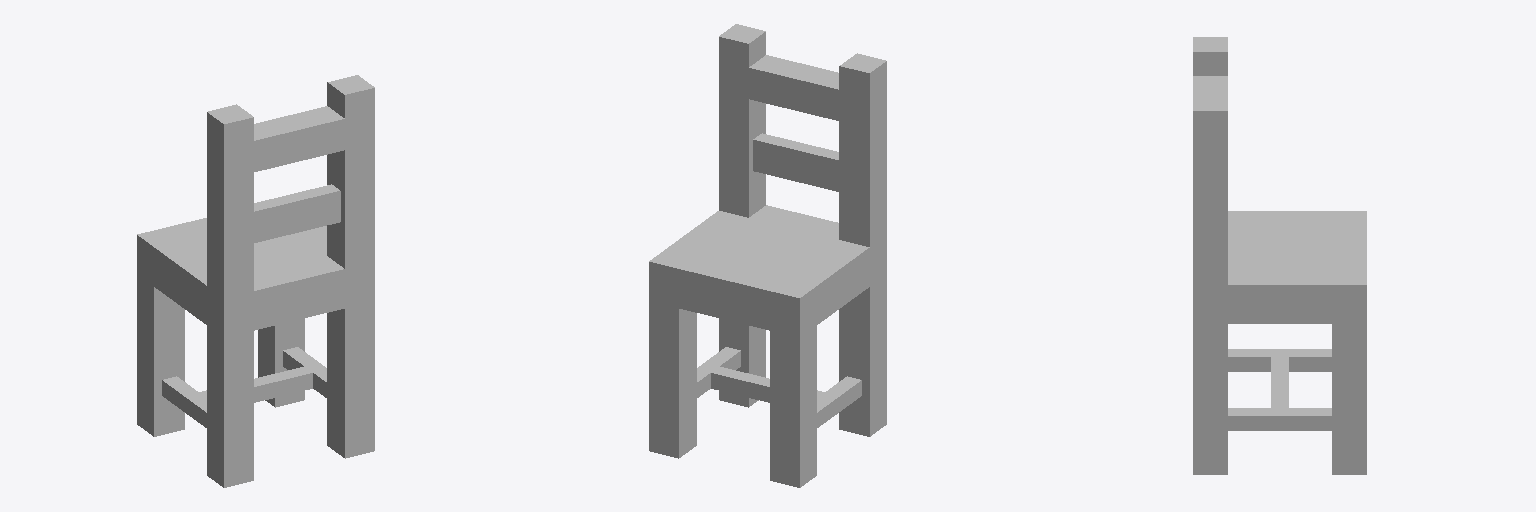
The model's file is chairCushion.obj.
The picture shows the model from 3 angles: view 1: azimuth 30°, elevation 25°; view 2: azimuth 150°, elevation 25°; view 3: azimuth 270°, elevation 25°; orthographic projection.
Visible parts, largest first — view 1: chairCushion; view 2: chairCushion; view 3: chairCushion.
Part boxes in pixels (x1,y1,x2,y2): chairCushion: (137, 75, 374, 487); chairCushion: (649, 24, 886, 487); chairCushion: (1193, 37, 1366, 474).
Bounding box in the file's own units: 0.2 × 0.46 × 0.2.